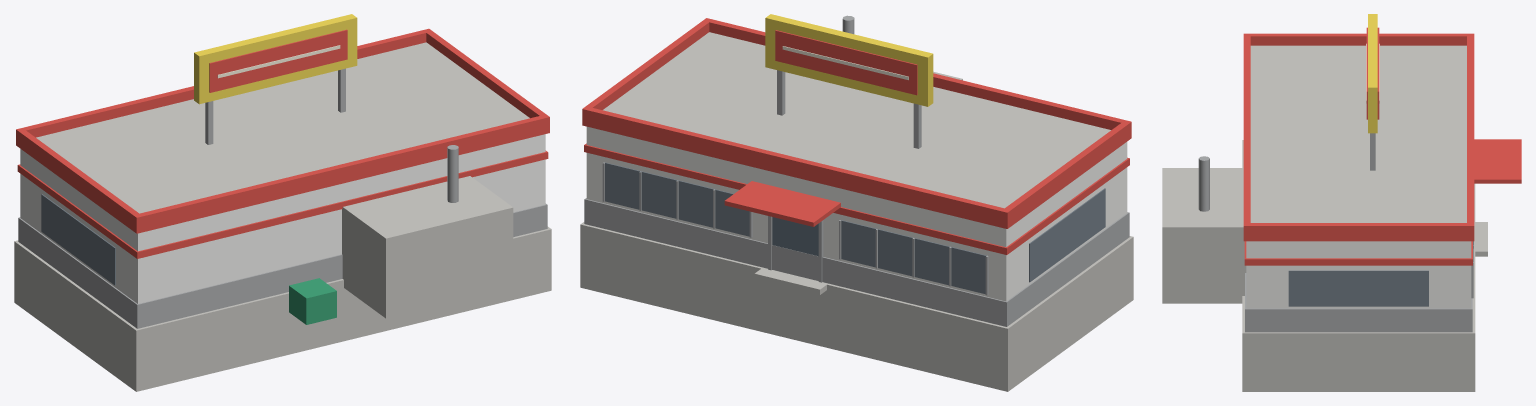
The model's file is diner.glb.
The picture shows the model from 3 angles, left to right: view 1: azimuth 30°, elevation 25°; view 2: azimuth 150°, elevation 25°; view 3: azimuth 270°, elevation 25°; orthographic projection. The views are drawn at different scales.
Visible parts, largest first — view 1: diner; view 2: diner; view 3: diner.
Boxes of the visible parts, box(x1,y1,x2,y2) form: diner: box(14, 14, 551, 391); diner: box(580, 14, 1133, 391); diner: box(1162, 14, 1521, 391).
Size of the model in its own units: 16.3 by 9.6 by 12.8.
